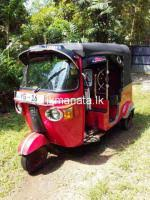tuk tuk: (14, 43, 138, 173)
